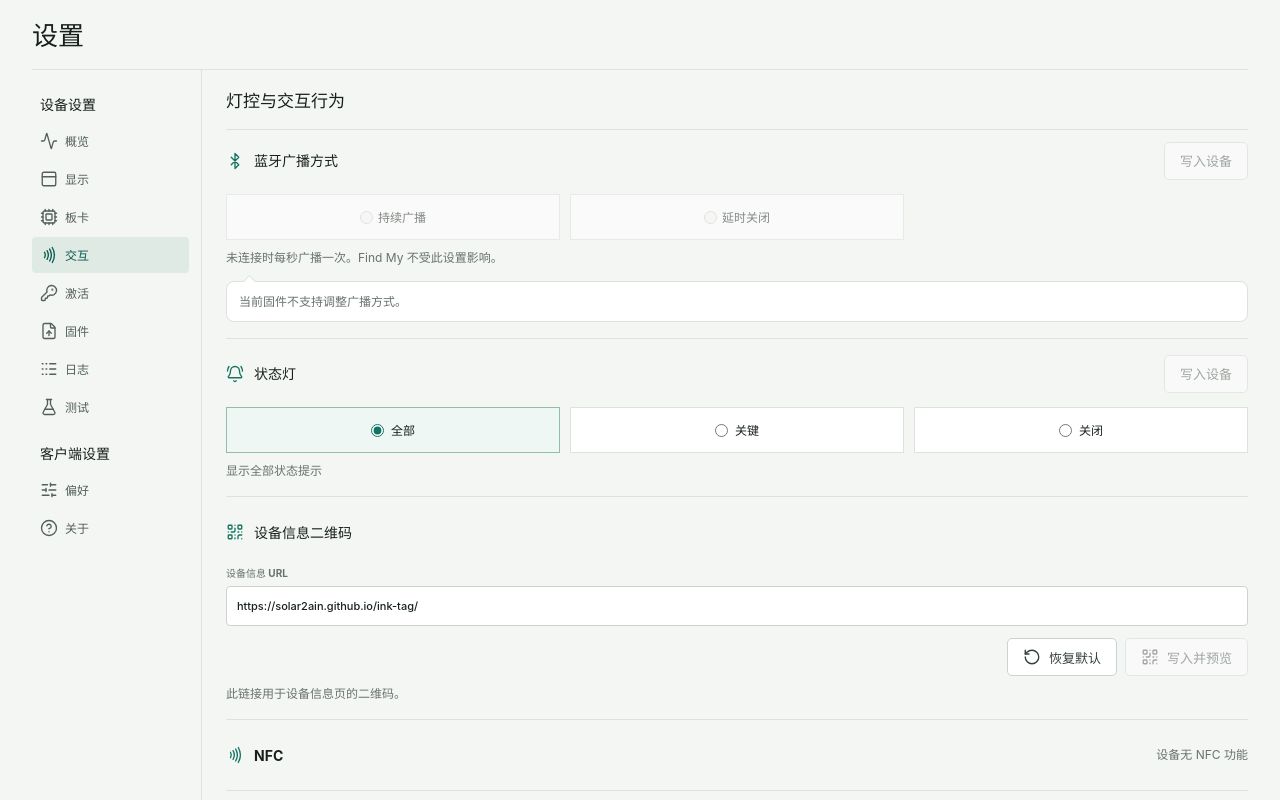
Test: keeps write buttons text-only and explains the selected LED policy below the choices
Click the radio button named "led-policy": (1066, 431) x1=1059 y1=424 x2=1072 y2=438
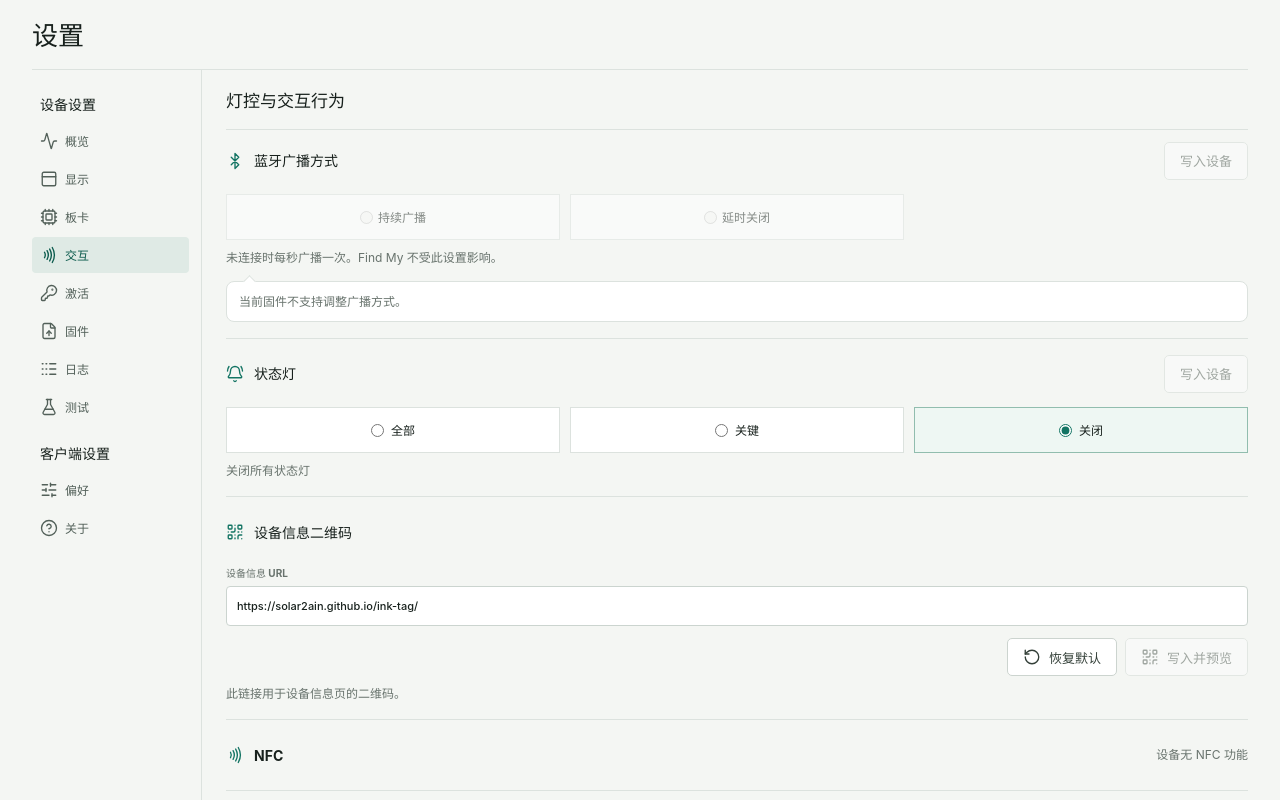
Result: the text with class "behavior-policy-hint" reads "关闭所有状态灯" at x1=226 y1=463 x2=310 y2=478
